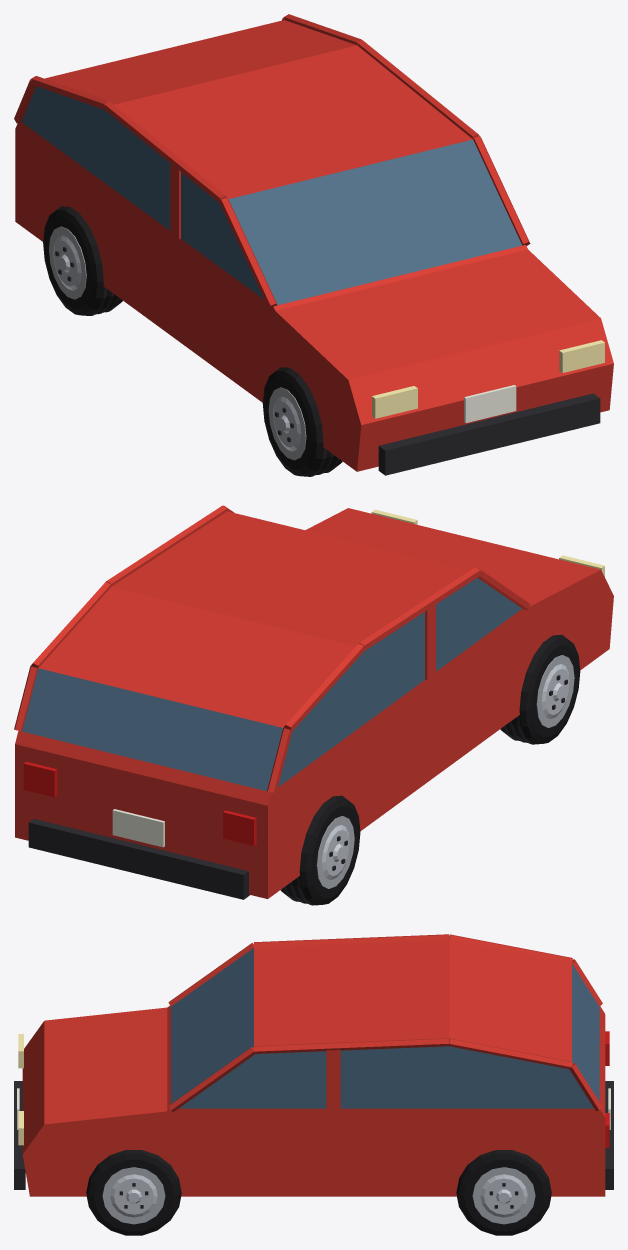
File: vehicle_hatchback.glb
3 views of the same model, one above another, from view 1: azimuth 30°, elevation 25°; view 2: azimuth 150°, elevation 25°; view 3: azimuth 270°, elevation 25° (orthographic). The views are drawn at different scales.
Visible parts, largest first — view 1: hatchback_body, hatchback_wheel_rr, hatchback_wheel_fr; view 2: hatchback_body, hatchback_wheel_rr, hatchback_wheel_fr; view 3: hatchback_body, hatchback_wheel_fl, hatchback_wheel_rl.
Boxes of the visible parts, box(x1,y1,x2,y2) form: hatchback_body: box(14, 14, 613, 475); hatchback_wheel_rr: box(43, 206, 122, 315); hatchback_wheel_fr: box(262, 367, 342, 476); hatchback_body: box(14, 505, 613, 899); hatchback_wheel_rr: box(280, 795, 360, 905); hatchback_wheel_fr: box(500, 634, 580, 744); hatchback_body: box(14, 934, 613, 1196); hatchback_wheel_fl: box(86, 1150, 181, 1235); hatchback_wheel_rl: box(456, 1150, 551, 1235).
Bounding box in the file's own units: 1.87 × 1.51 × 4.15.
